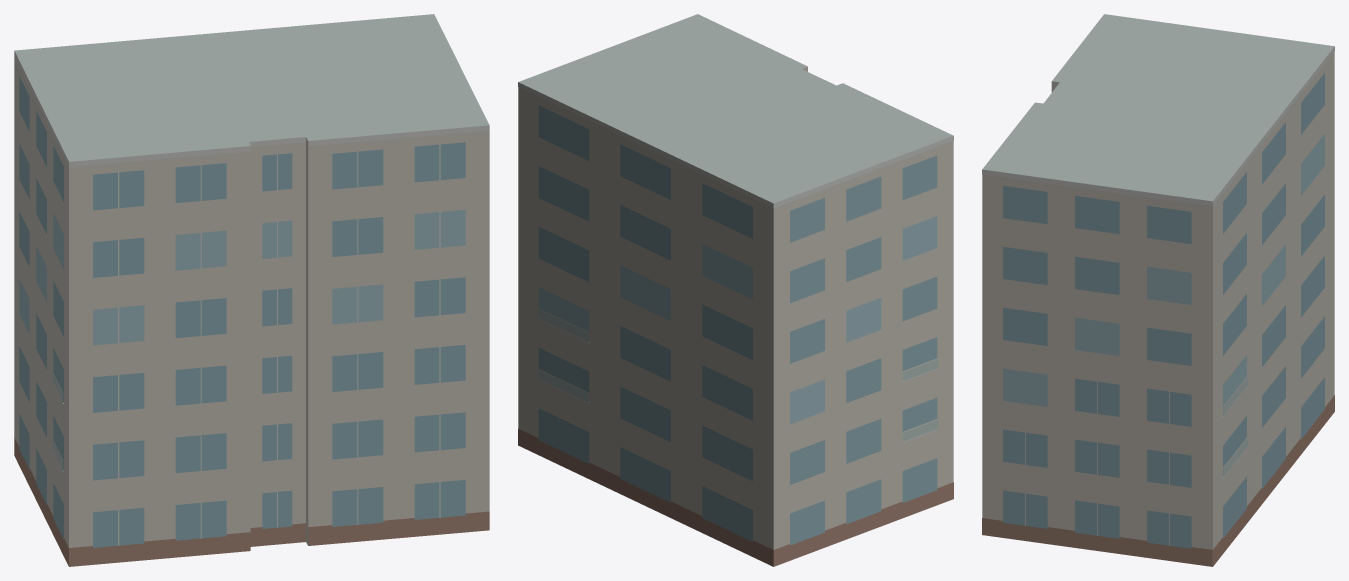
The model's file is survey-upis-32986656.glb.
The picture shows the model from 3 angles, left to right: view 1: azimuth 30°, elevation 25°; view 2: azimuth 150°, elevation 25°; view 3: azimuth 270°, elevation 25°; orthographic projection. The views are drawn at different scales.
Visible parts, largest first — view 1: survey-upis-32986656.tmp; view 2: survey-upis-32986656.tmp; view 3: survey-upis-32986656.tmp.
Part boxes in pixels (left/top/right/bottom): survey-upis-32986656.tmp: left=14, top=14, right=489, bottom=566; survey-upis-32986656.tmp: left=518, top=14, right=953, bottom=566; survey-upis-32986656.tmp: left=982, top=14, right=1334, bottom=566.
Bounding box in the file's own units: 20.12 × 18.3 × 16.01.
